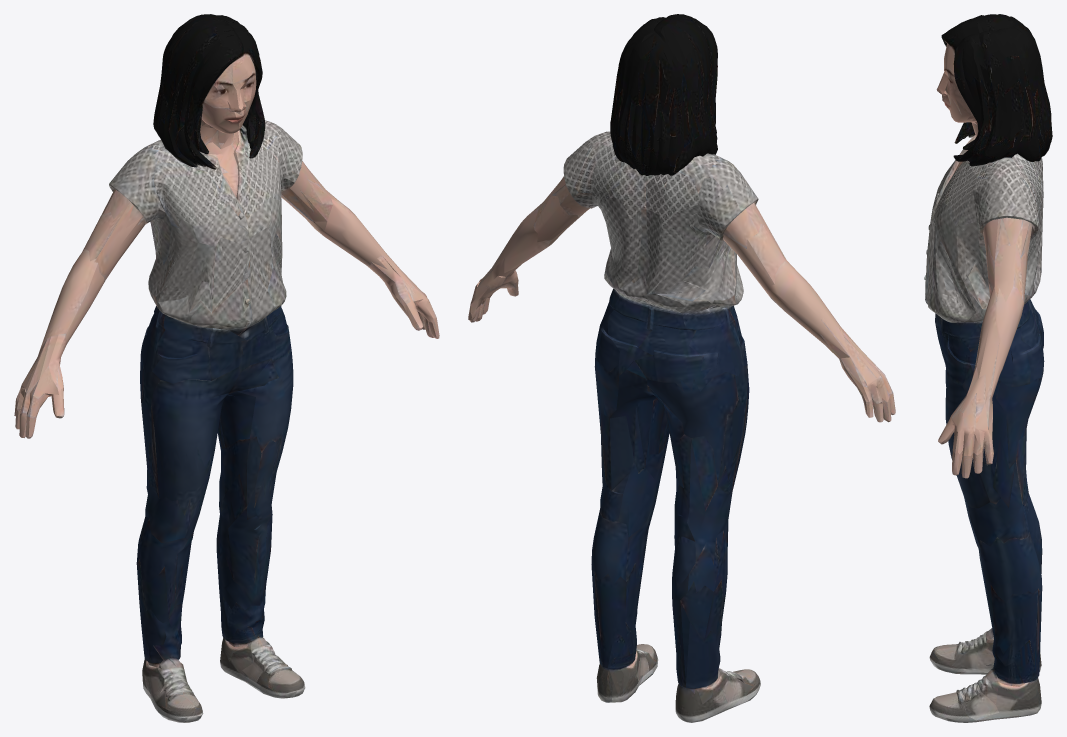
Rendered from shopper-woman.glb.
3 views of the same model, side by side, from view 1: azimuth 30°, elevation 25°; view 2: azimuth 150°, elevation 25°; view 3: azimuth 270°, elevation 25° (orthographic).
Visible parts, largest first — view 1: Mesh_0; view 2: Mesh_0; view 3: Mesh_0.
Part boxes in pixels (bbox=[...]): Mesh_0: bbox=[14, 14, 439, 722]; Mesh_0: bbox=[468, 14, 895, 722]; Mesh_0: bbox=[924, 14, 1052, 722].
Bounding box in the file's own units: 1.03 × 1.6 × 0.276.
1 material, 1 textured.
